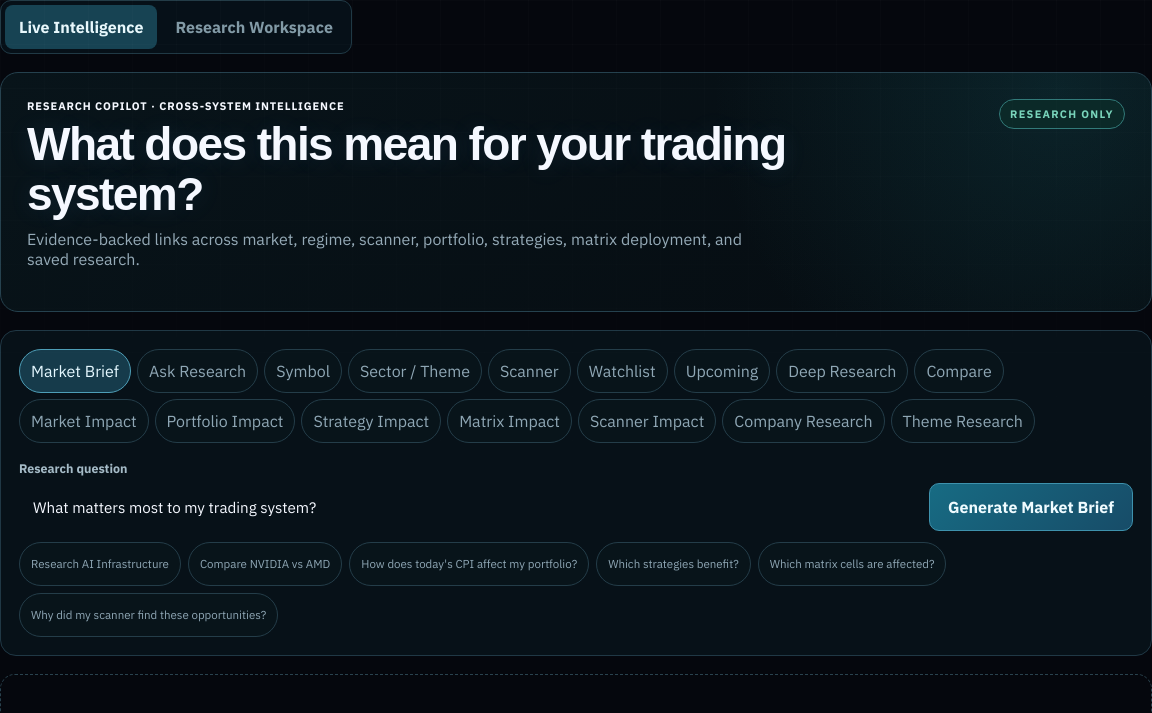
Scenario: ResearchWorkspace › shows an empty persistent workspace without changing live research
Expected: the heading "What does this mean for your trading system?" is shown, [27,120,787,220]
Click the button "Research Workspace" at (254, 27), box [161,5,347,49]
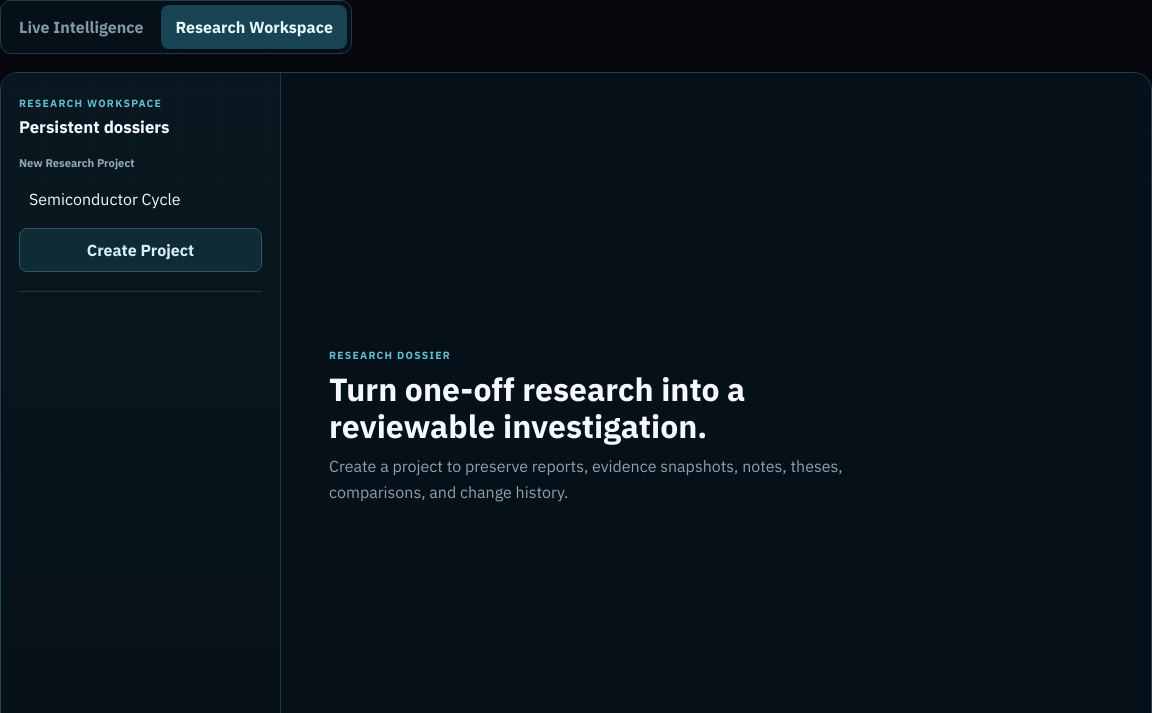
Result: the heading "Turn one-off research into a reviewable investigation." is shown at [329,368,745,448]
